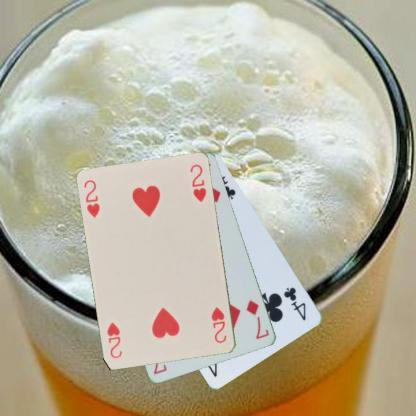2h: (82, 177, 102, 219), (209, 304, 228, 345)
4c: (281, 284, 308, 322)
7d: (244, 297, 270, 341)
